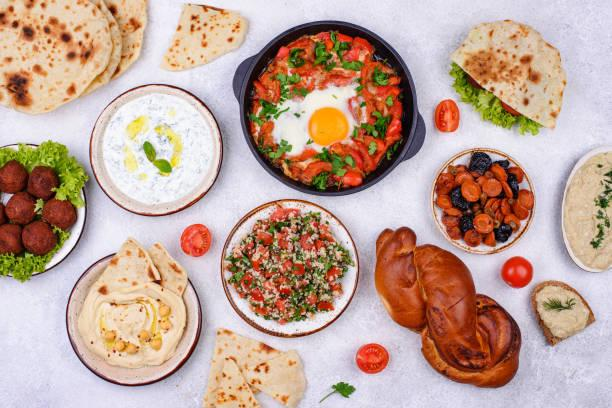Braised Crucian Carp: (231, 21, 422, 196), (221, 199, 356, 338), (64, 252, 200, 387), (88, 84, 220, 217), (447, 17, 568, 136), (0, 141, 87, 275), (431, 148, 534, 255)
